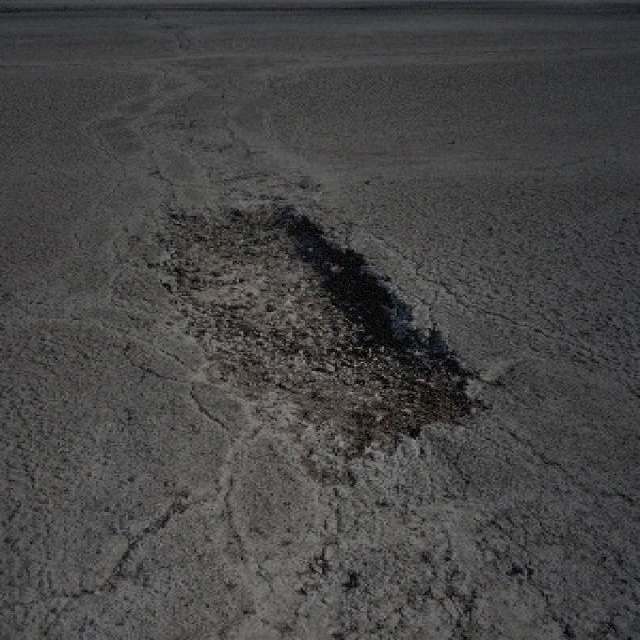pothole: (136, 194, 486, 476)
